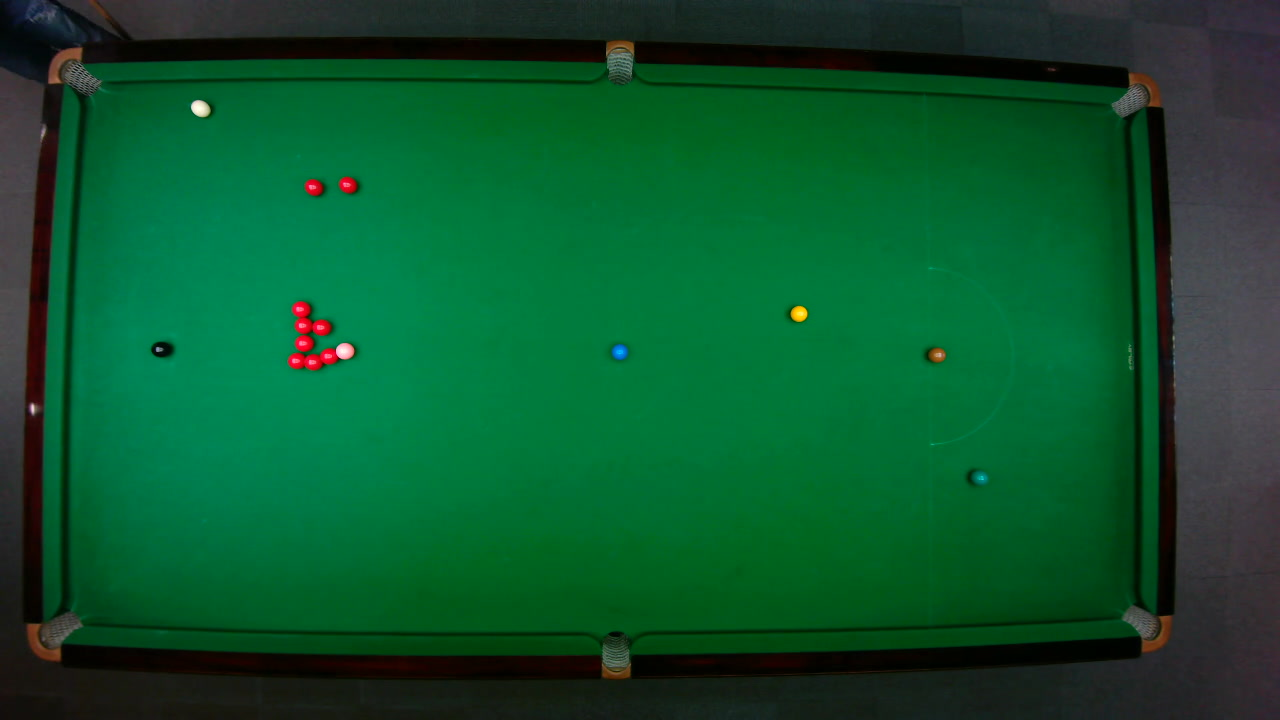bag: (25, 609, 83, 661), (46, 46, 102, 96), (1119, 603, 1171, 652), (1108, 71, 1161, 118), (600, 629, 629, 680), (605, 38, 633, 85)
black: (149, 340, 172, 357)
blue: (610, 342, 628, 360)
brown: (926, 346, 945, 362)
green: (969, 468, 989, 486)
pink: (334, 341, 355, 360)
red: (302, 177, 324, 196), (302, 352, 324, 370), (336, 175, 358, 193), (310, 317, 331, 335), (290, 299, 311, 317), (293, 334, 313, 352), (319, 346, 337, 365), (286, 351, 305, 369), (292, 317, 312, 334)
white: (189, 98, 211, 117)
yellow: (788, 304, 808, 322)
zone: (927, 265, 1013, 445)
